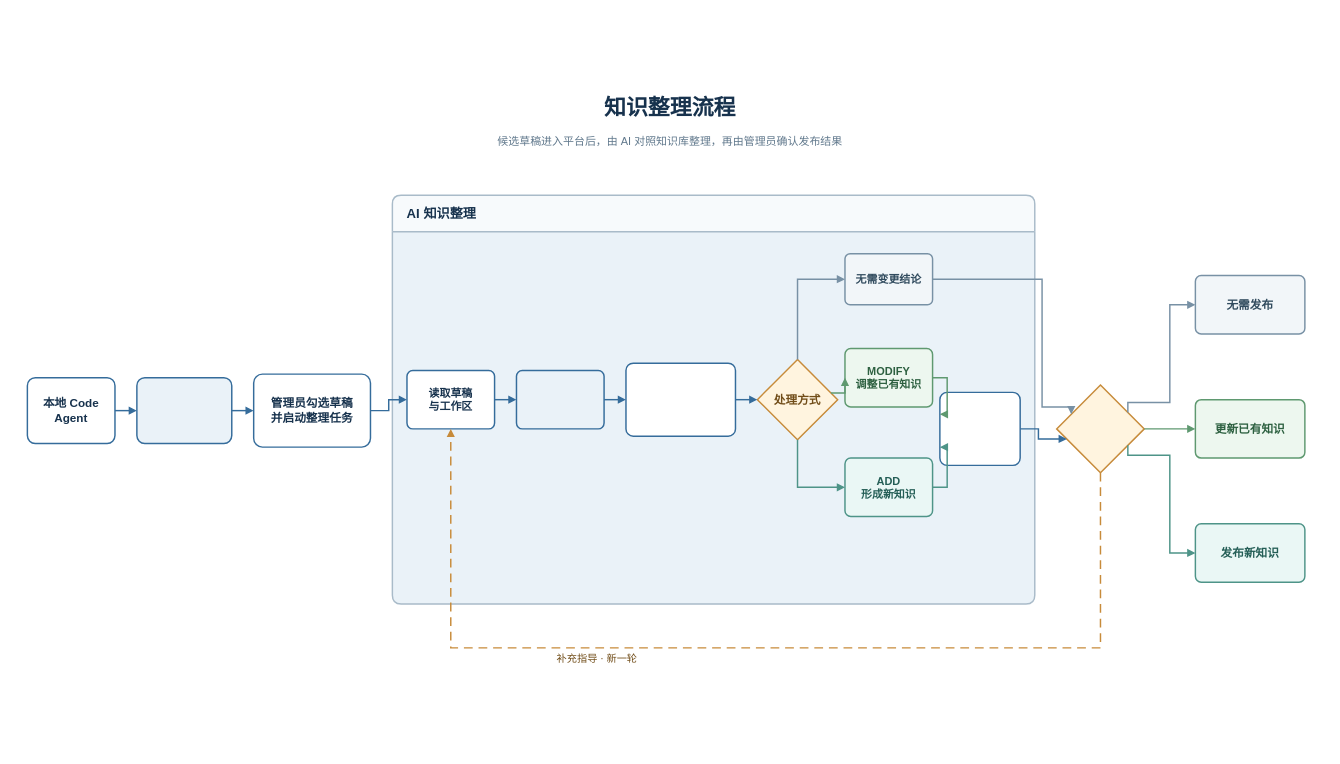
The diagram is 1340 pixels wide and 764 high, and some of its shapes have lost their labels. The centre of each missing label's shape, as x and y in pixels:
"MCP 上传 候选草稿" belongs at point (184, 410).
"RAG 检索 已有知识" belongs at point (559, 399).
"分析 重复 · 冲突 过期 · 缺口" belongs at point (680, 399).
"生成版本化修订 + Diff" belongs at point (980, 428).
"管理员审查" belongs at point (1100, 428).
